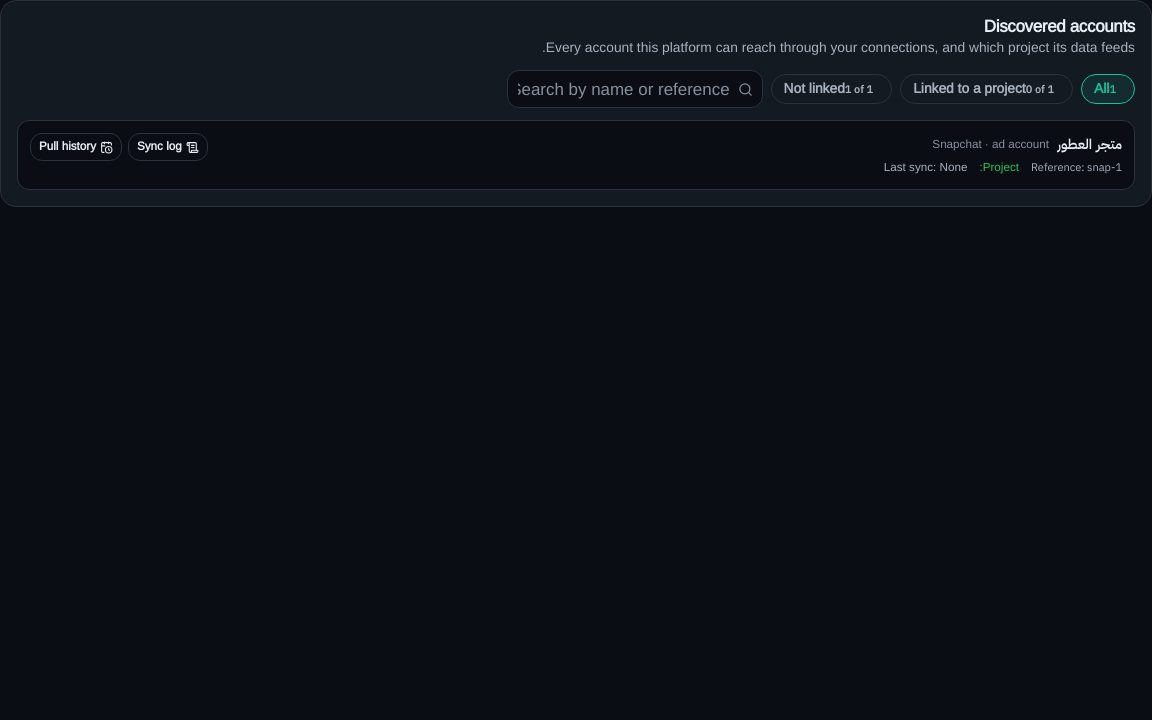
it: the account sync log › names what asked for each run and how long it waited
Click the button with test id "account-logs-a1" at (168, 147), box [128,134,208,161]
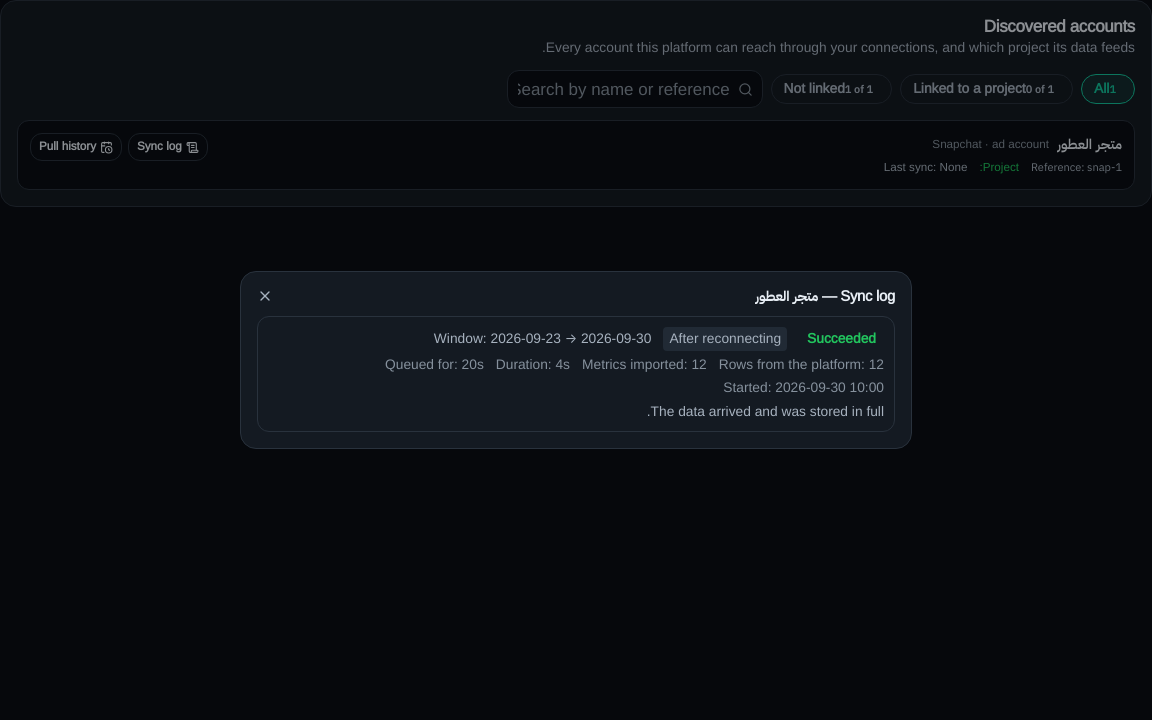
Expected: the list item with test id "account-log-row" shows "After reconnecting", [669,330,781,346]
Expected: the text with test id "account-log-waited" shows "20s", [385,355,484,374]
